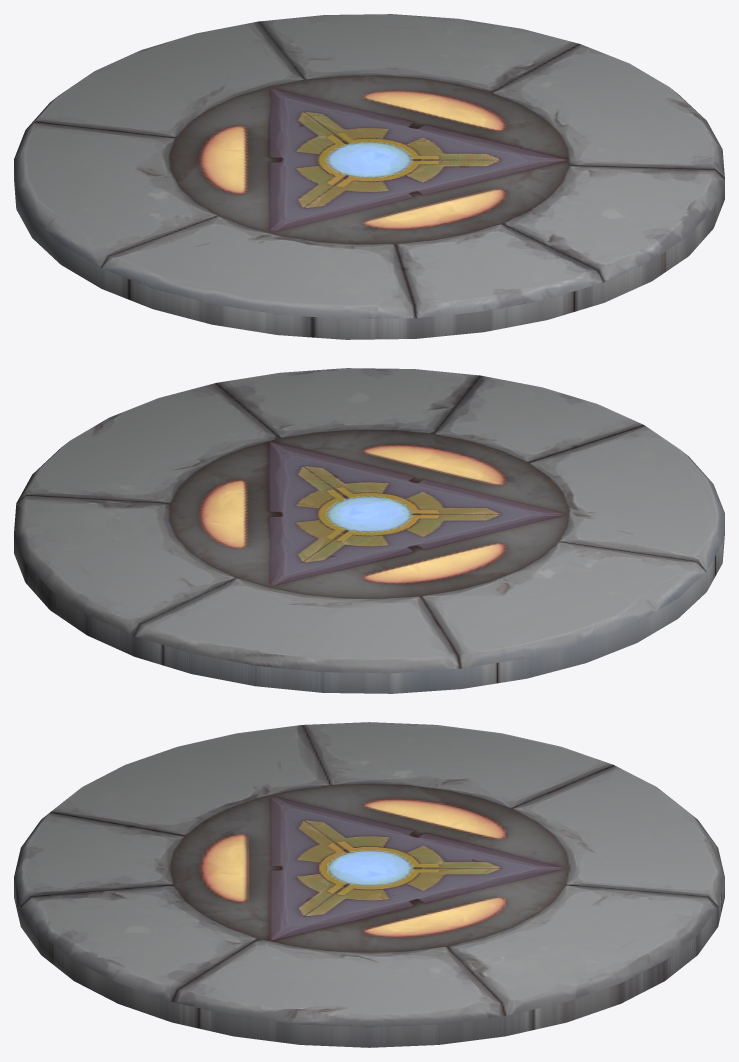
Rendered from prop_BossSpawnPoint.fbx.
3 renders of one model, top to bottom at view 1: azimuth 30°, elevation 25°; view 2: azimuth 150°, elevation 25°; view 3: azimuth 270°, elevation 25°, orthographic.
Visible parts, largest first — view 1: prop_BossSpawnPoint; view 2: prop_BossSpawnPoint; view 3: prop_BossSpawnPoint.
Boxes of the visible parts, x1=… form: prop_BossSpawnPoint: x1=14, y1=14, x2=724, y2=339; prop_BossSpawnPoint: x1=14, y1=368, x2=724, y2=693; prop_BossSpawnPoint: x1=14, y1=722, x2=724, y2=1047.
Size of the model in its own units: 396 by 18.08 by 396.
